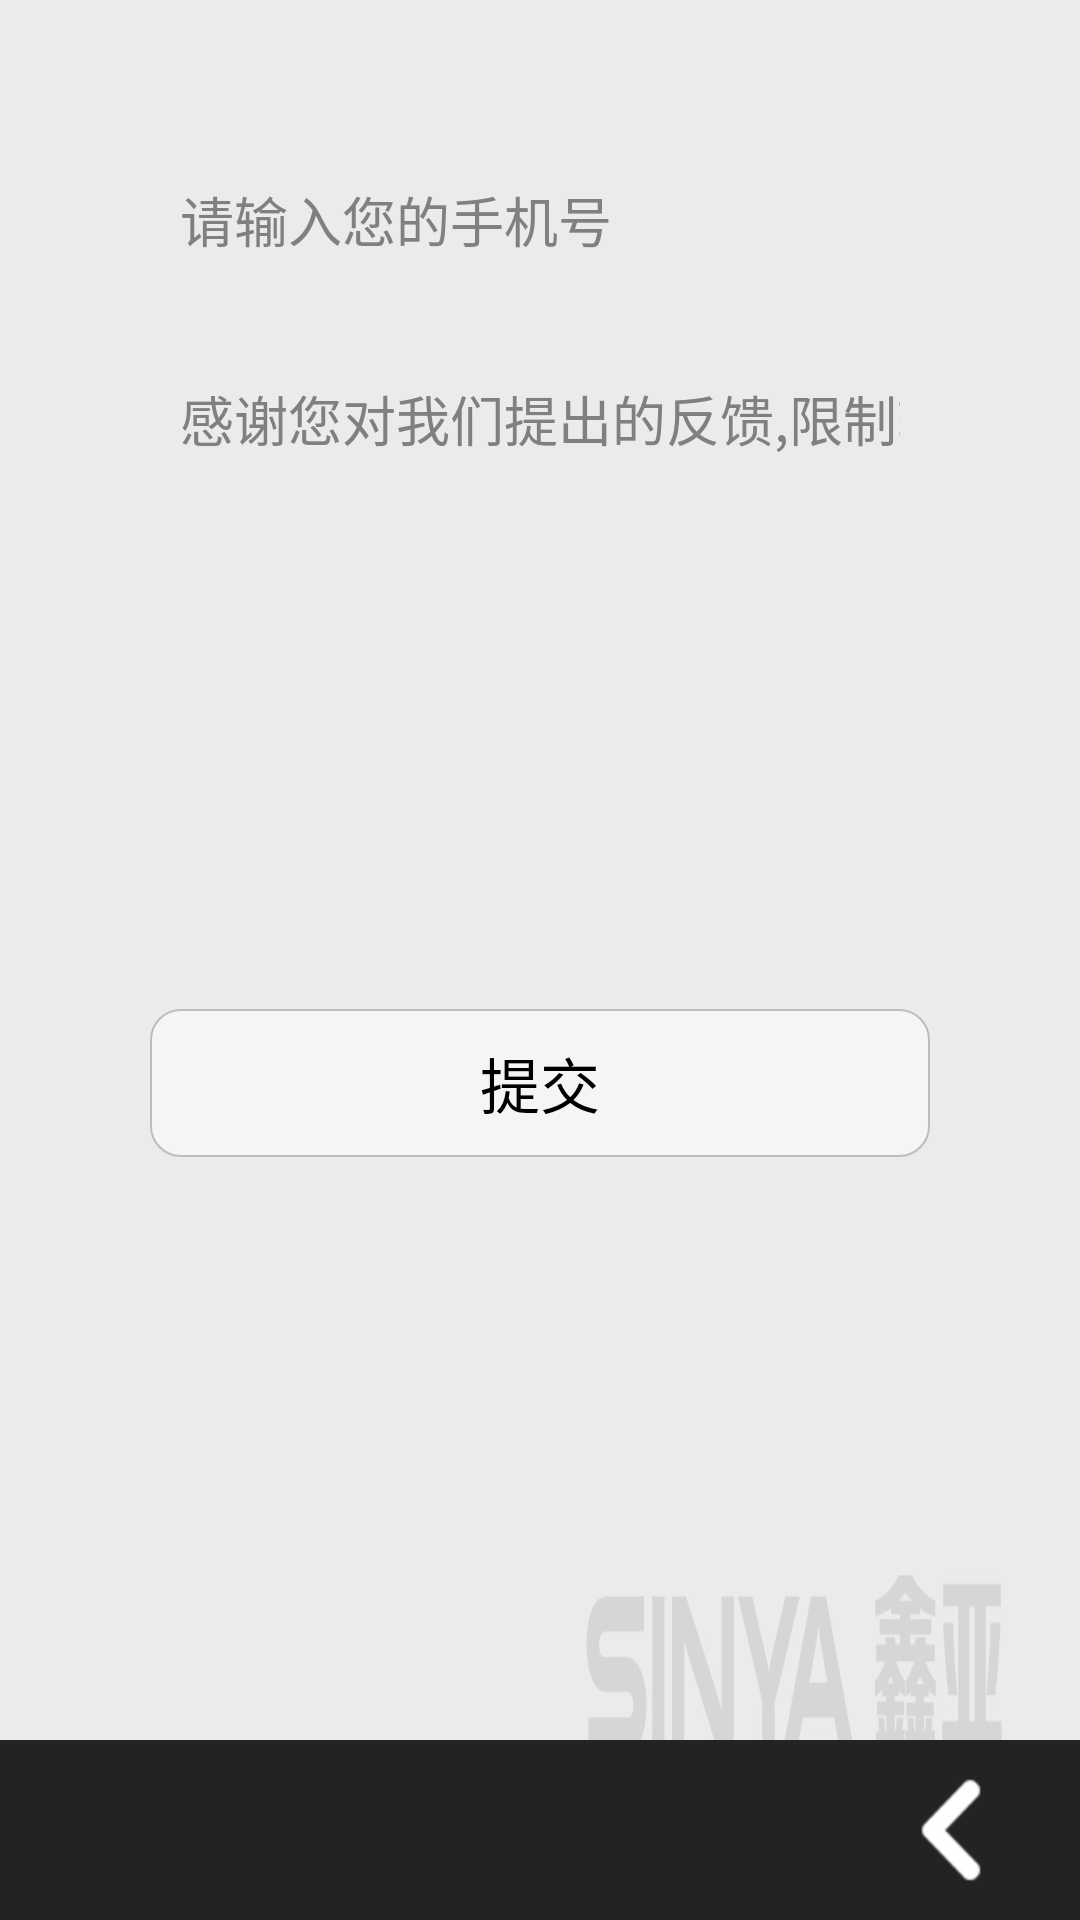

Point at icon controls on the screen. Image size 1080 x 1920, points as (x=x, y=y).
bottom back: (x=951, y=1830)
